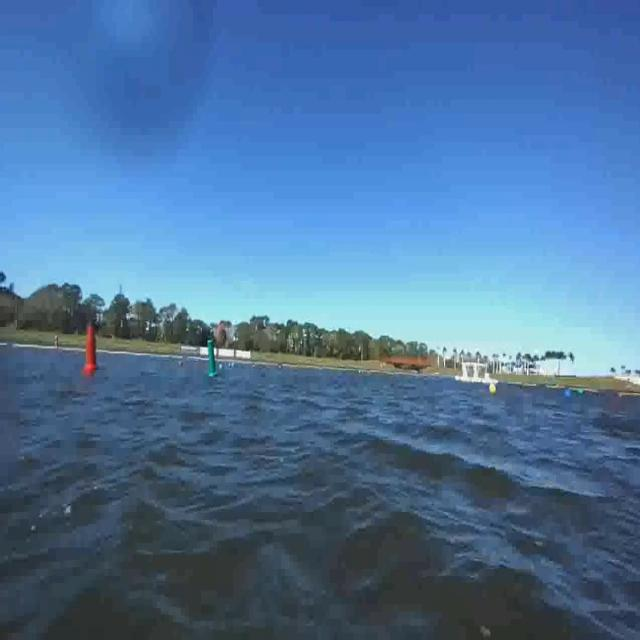green-column-buoy: (202, 326, 222, 376)
red-column-buoy: (80, 330, 102, 380)
